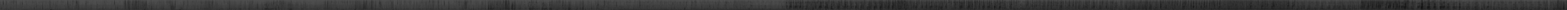Moan: (873, 0, 877, 10), (795, 0, 797, 10), (799, 0, 801, 10)
